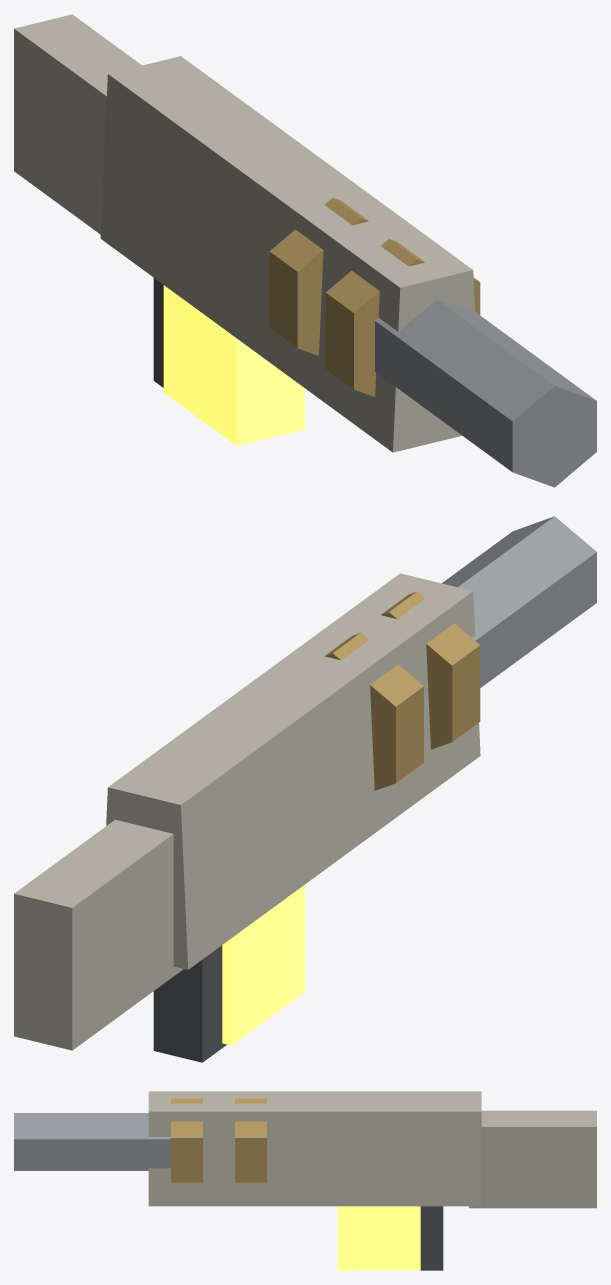
File: wpn_relic.glb
The picture shows the model from 3 angles, top to bottom: view 1: azimuth 30°, elevation 25°; view 2: azimuth 150°, elevation 25°; view 3: azimuth 270°, elevation 25°; orthographic projection. The views are drawn at different scales.
Visible parts, largest first — view 1: shell, emitter, stock, cell, coil_a, coil_b, grip; view 2: shell, stock, emitter, cell, grip, coil_a, coil_b; view 3: shell, stock, emitter, cell, coil_a, coil_b, grip.
Boxes of the visible parts, <box> form: shell: <box>100,56,475,452</box>; emitter: <box>375,299,596,487</box>; stock: <box>14,14,141,234</box>; cell: <box>163,285,304,445</box>; coil_a: <box>325,239,480,396</box>; coil_b: <box>269,198,368,355</box>; grip: <box>153,278,163,387</box>; shell: <box>106,573,480,969</box>; stock: <box>14,819,183,1050</box>; emitter: <box>442,516,596,687</box>; cell: <box>222,885,304,1045</box>; grip: <box>153,945,226,1062</box>; coil_a: <box>381,591,480,749</box>; coil_b: <box>325,632,423,790</box>; shell: <box>148,1091,481,1206</box>; stock: <box>469,1110,596,1208</box>; emitter: <box>14,1113,170,1170</box>; cell: <box>337,1206,420,1270</box>; coil_a: <box>171,1098,202,1182</box>; coil_b: <box>235,1098,266,1182</box>; grip: <box>420,1206,443,1270</box>.
Bounding box in the file's own units: 0.1299 × 0.285 × 0.91.
